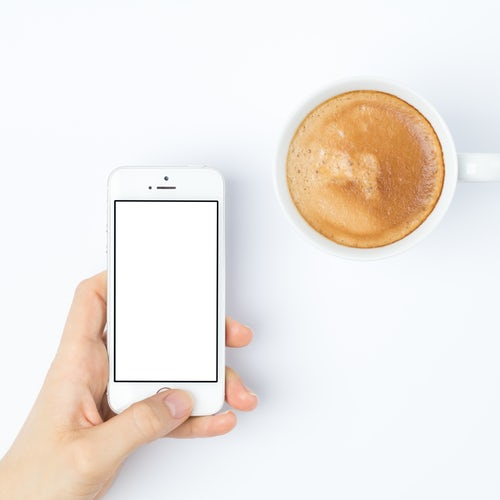phone: (104, 161, 236, 422)
